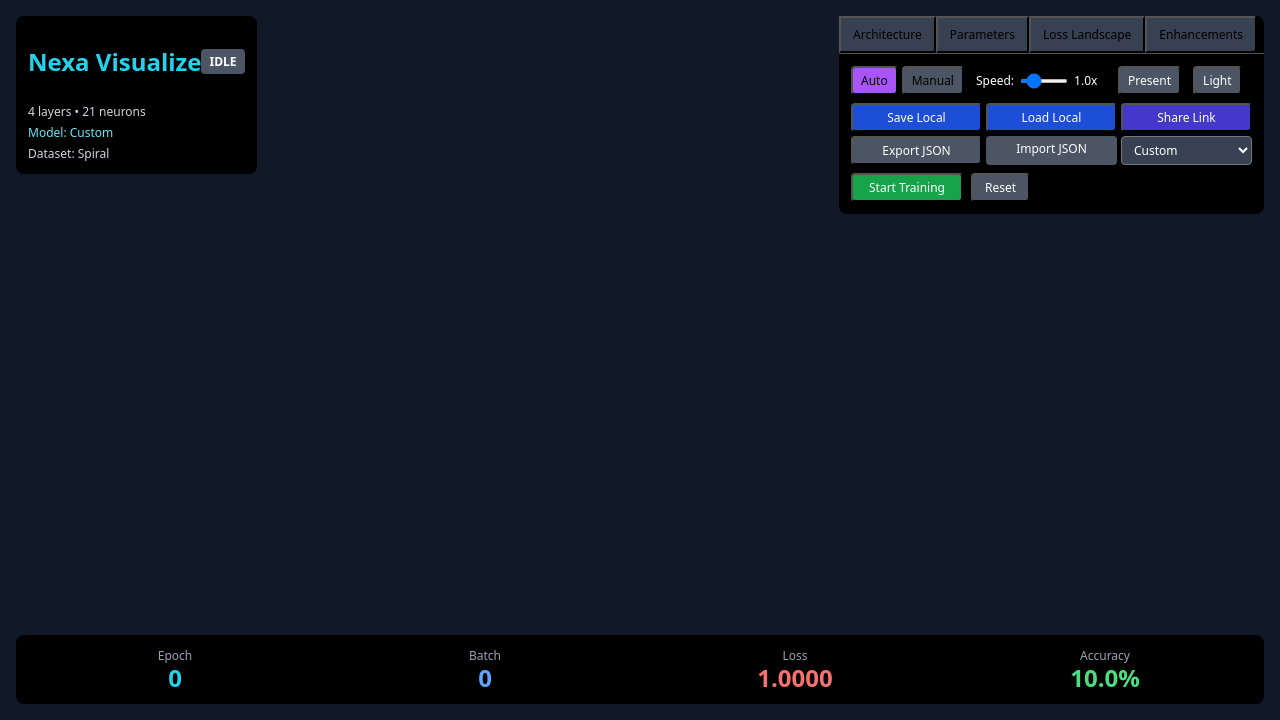
NeuralNetwork3D integration tests › start/stop/reset training behavior updates UI state
Click the button "Start Training" at point(907, 188), box x1=851 y1=173 x2=963 y2=202
Wait 1000 ms
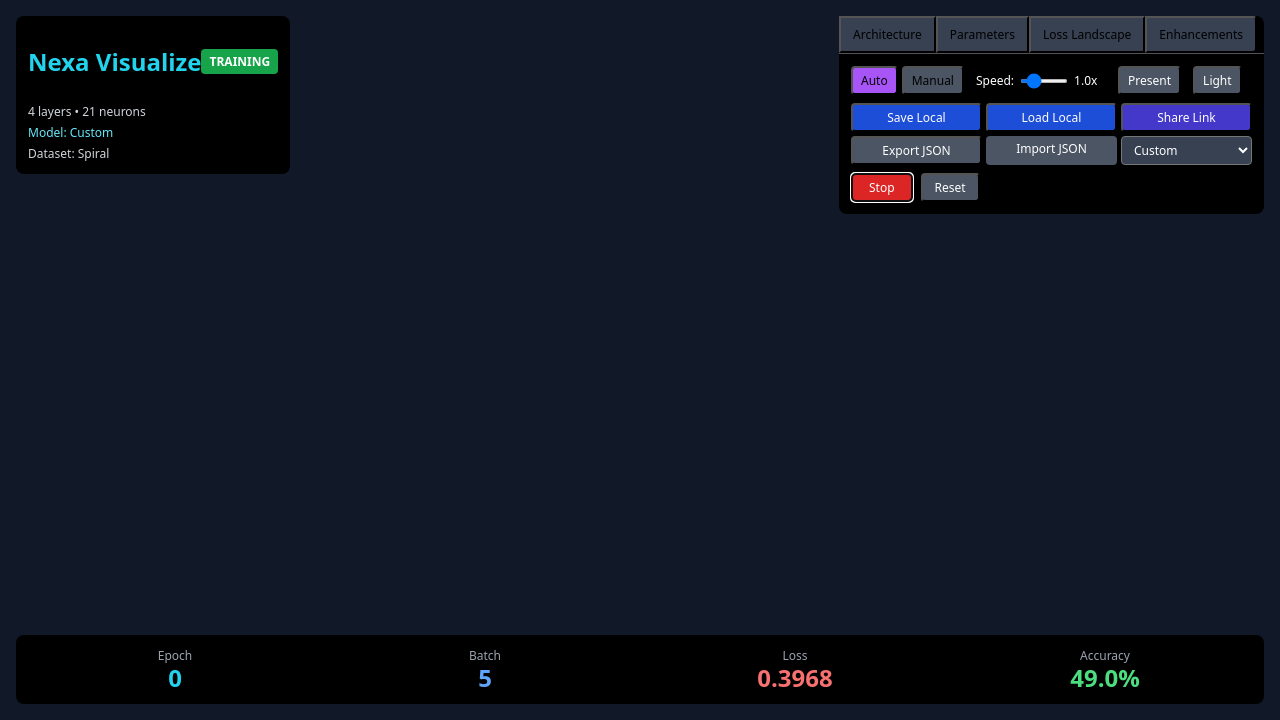
Expected: the text named "Batch value" does not show "0", x1=478 y1=661 x2=492 y2=694
Expected: the text "TRAINING" is shown, x1=202 y1=49 x2=278 y2=74
Click the button "Stop" at point(882, 188), box x1=851 y1=173 x2=913 y2=202
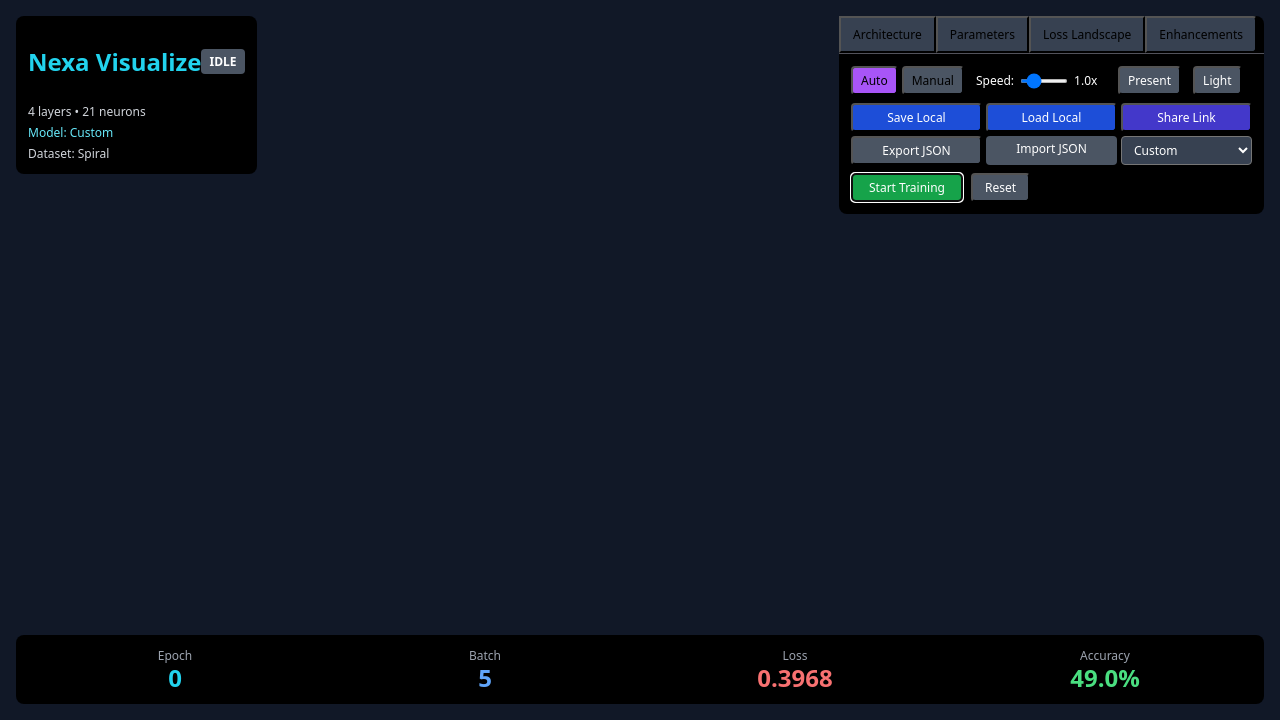
Expected: the text "IDLE" is shown, x1=202 y1=49 x2=245 y2=74
Click the button "Reset" at point(1001, 188), box x1=971 y1=173 x2=1030 y2=202
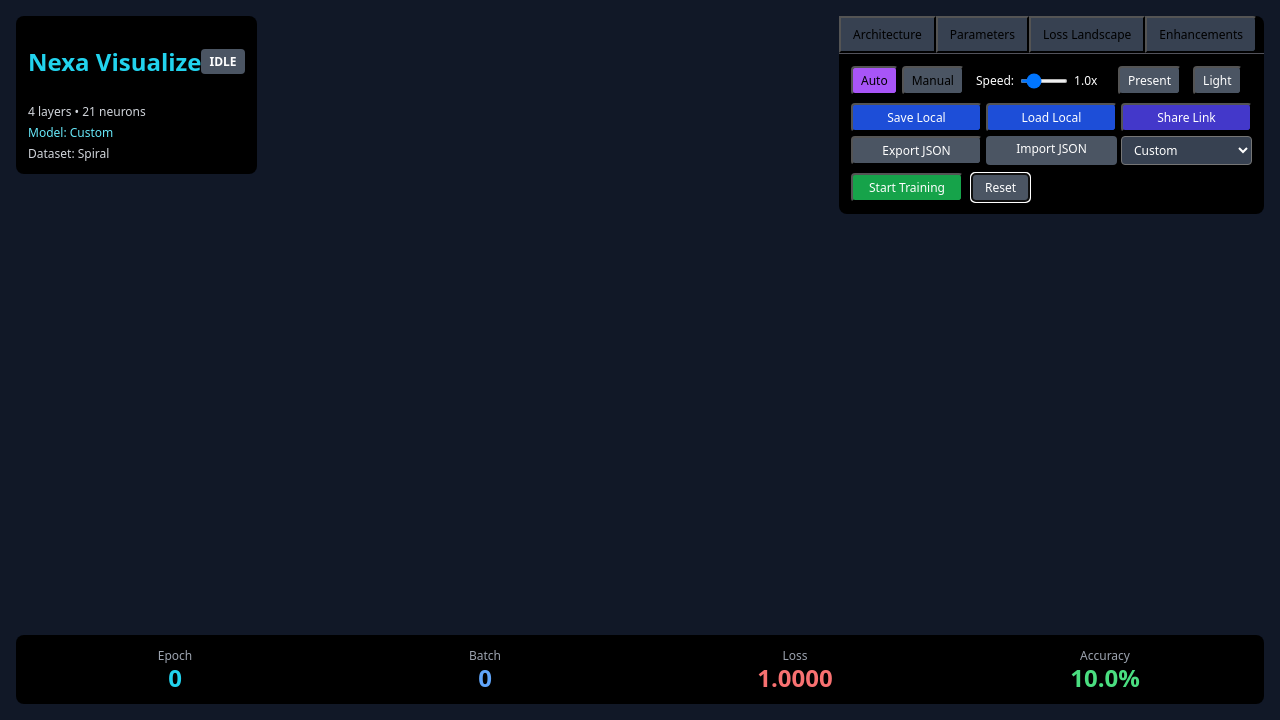
Expected: the text "1.0000" is shown, x1=757 y1=661 x2=833 y2=694
